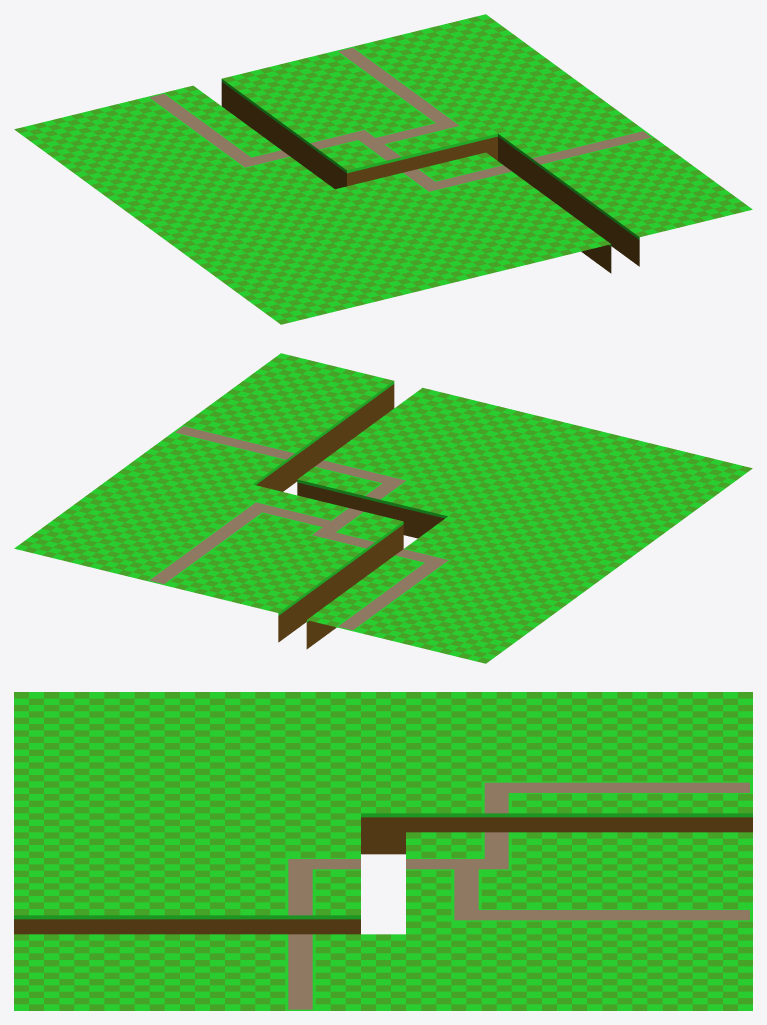
The model's file is Map 04 - 3.fbx.
The picture shows the model from 3 angles, top to bottom: view 1: azimuth 30°, elevation 25°; view 2: azimuth 150°, elevation 25°; view 3: azimuth 270°, elevation 25°; orthographic projection. The views are drawn at different scales.
Parts seen in each view (by area): view 1: Plane.023, Plane.024; view 2: Plane.023, Plane.024; view 3: Plane.023, Plane.024.
Boxes of the visible parts, left/top/right/bottom form: Plane.023: left=14, top=14, right=752, bottom=324; Plane.024: left=149, top=47, right=651, bottom=191; Plane.023: left=14, top=353, right=752, bottom=663; Plane.024: left=149, top=426, right=448, bottom=630; Plane.023: left=14, top=692, right=752, bottom=1010; Plane.024: left=288, top=782, right=749, bottom=1009.
Size of the model in its own units: 500 by 30 by 490.
